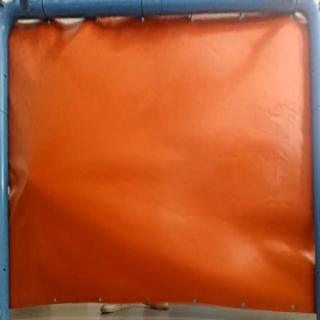Hit-hRxx: (20, 168, 36, 185)
